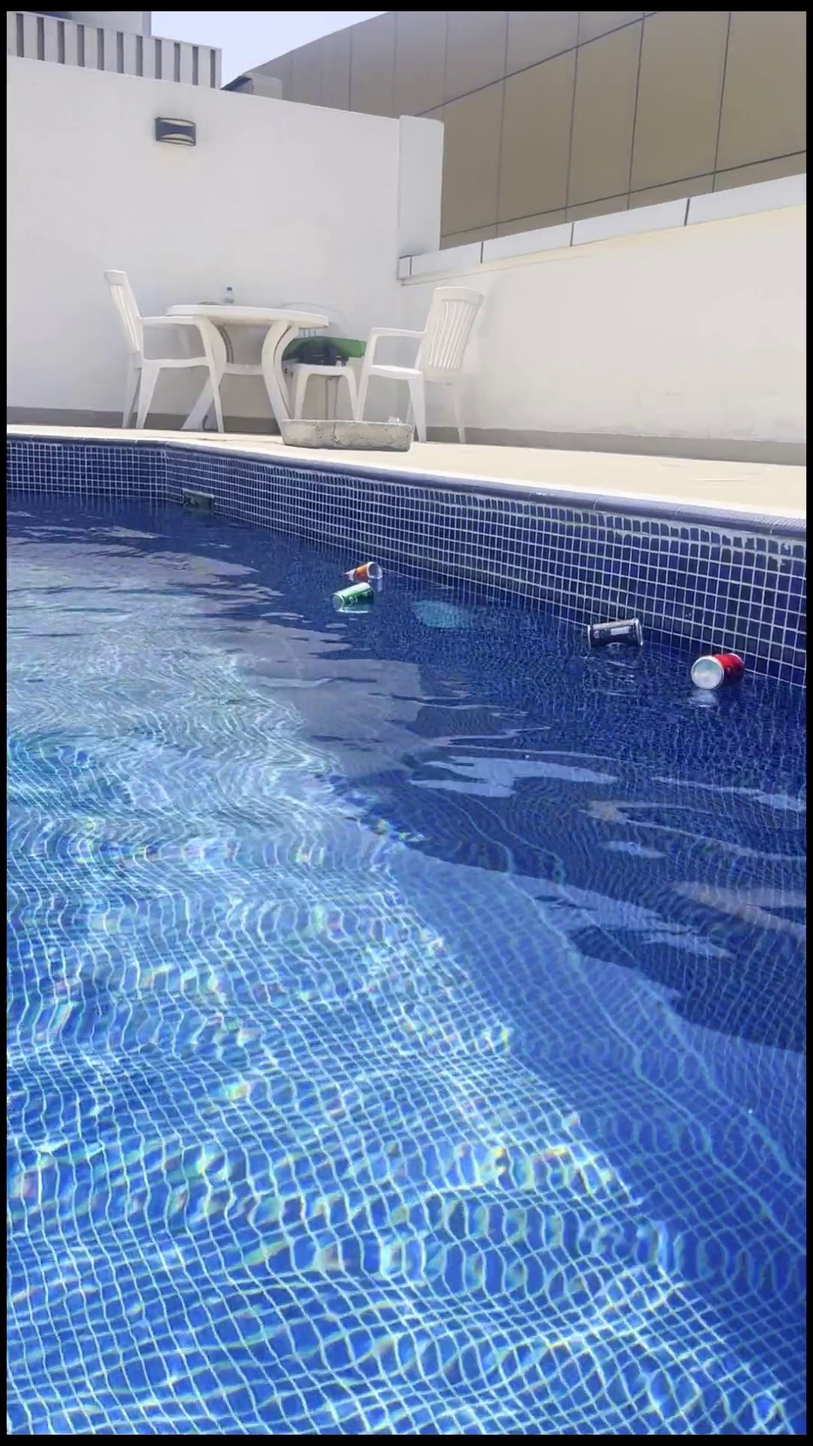debris: (583, 599, 642, 668), (687, 639, 744, 708), (329, 562, 374, 622), (341, 554, 382, 591)
